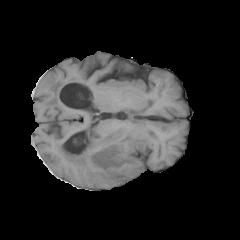glioma: (45, 83, 158, 183)
